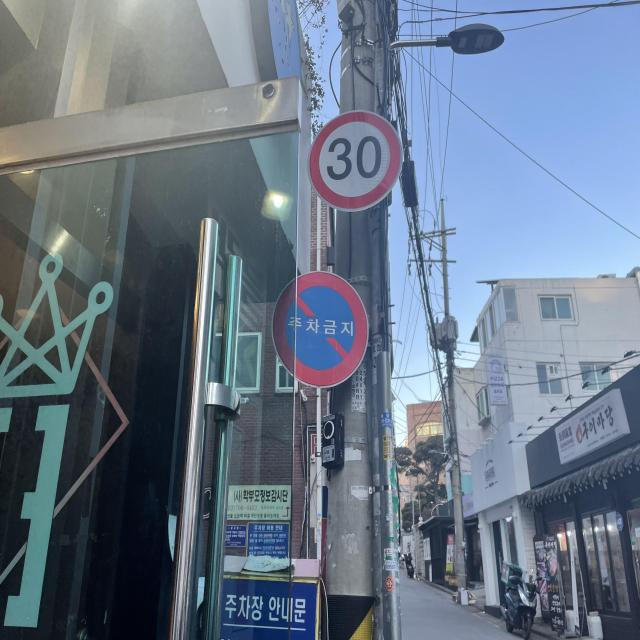Ograniczenie predkosci do 30: (310, 112, 406, 210)
